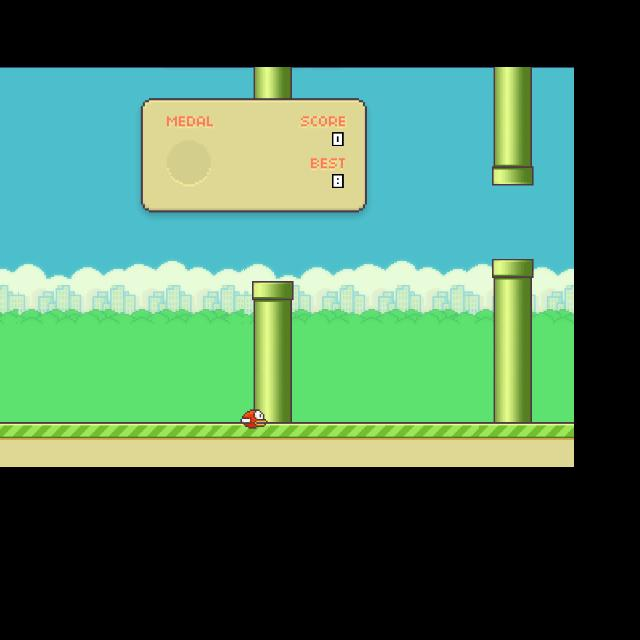bird: (241, 409, 266, 428)
pipedown: (492, 258, 532, 416), (252, 281, 292, 413)
pipeup: (492, 85, 533, 185)
